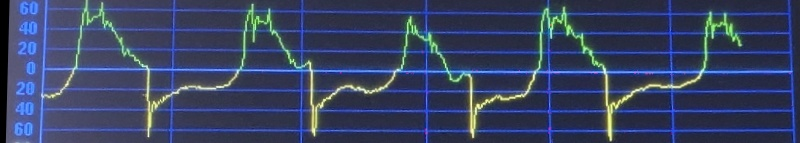hydrop_flow: (26, 5, 757, 141)
